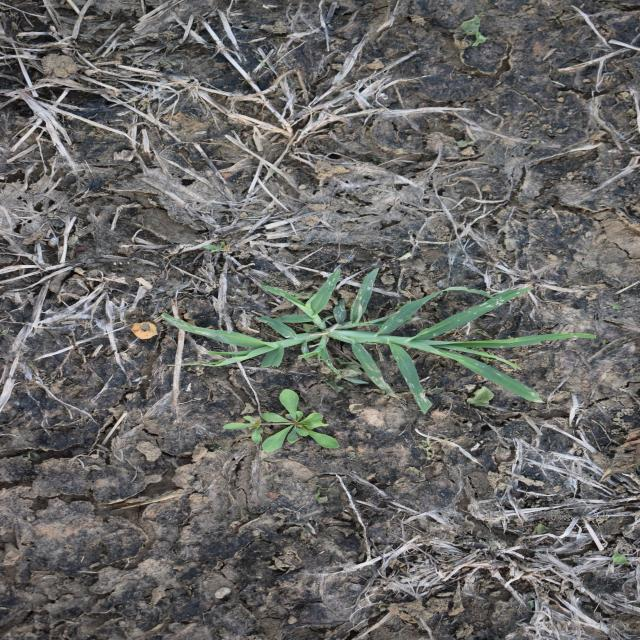Carpetweed: (220, 386, 343, 454)
Goosegrass: (159, 261, 602, 416)
